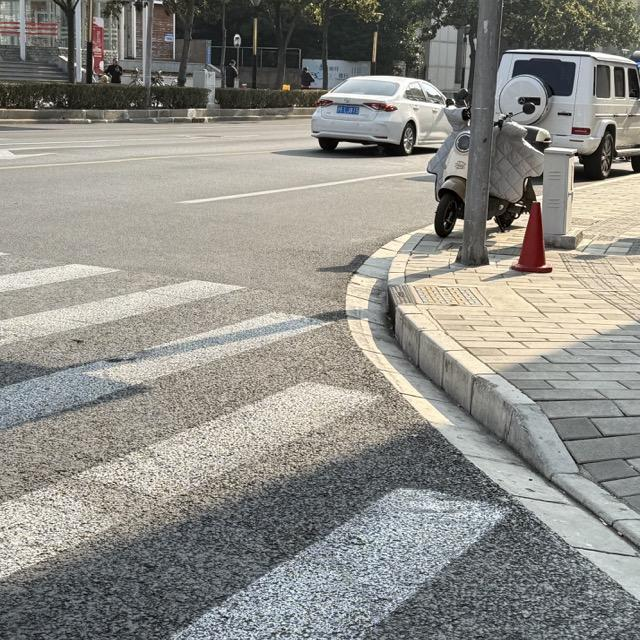curb: (388, 226, 639, 549), (0, 108, 313, 120), (1, 114, 312, 124), (570, 480, 626, 516)
